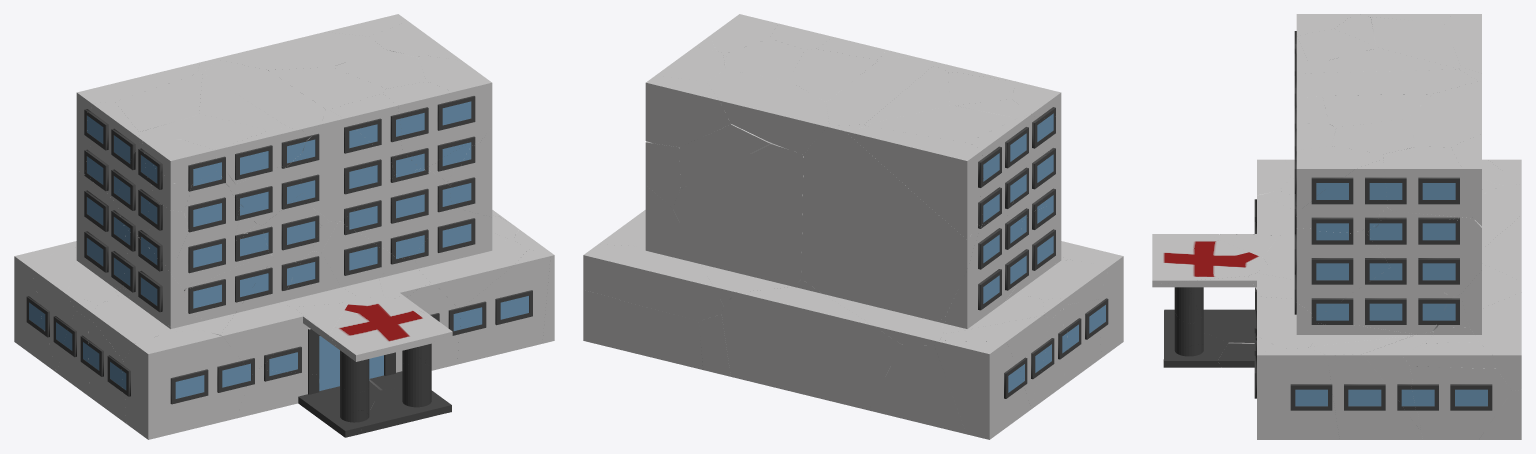
File: hospital_CRUSH.fbx
3 views of the same model, side by side, from view 1: azimuth 30°, elevation 25°; view 2: azimuth 150°, elevation 25°; view 3: azimuth 270°, elevation 25° (orthographic).
Visible parts, largest first — view 1: Cube.020_cell.043, Cube.020_cell.020, Cube.020_cell.071, Cube.020_cell.041, Cube.020_cell.057, Cube.020_cell.015, Cube.020_cell, Cube.020_cell.005, Cube.020_cell.040, Cube.020_cell.042, Cube.020_cell.026, Cube.020_cell.073 (+42 smaller); view 2: Cube.020_cell.008, Cube.020_cell.034, Cube.020_cell.045, Cube.020_cell.031, Cube.020_cell.004, Cube.020_cell.017, Cube.020_cell, Cube.020_cell.058, Cube.020_cell.055, Cube.020_cell.057, Cube.020_cell.076, Cube.020_cell.069 (+24 smaller); view 3: Cube.020_cell.030, Cube.020_cell.037, Cube.020_cell.052, Cube.020_cell.075, Cube.020_cell.046, Cube.020_cell.039, Cube.020_cell.025, Cube.020_cell.005, Cube.020_cell.084, Cube.020_cell.031, Cube.020_cell.073, Cube.020_cell.058 (+39 smaller).
Part boxes in pixels (x1=…): Cube.020_cell.043: x1=121, y1=330, x2=252, y2=439; Cube.020_cell.020: x1=457, y1=249, x2=550, y2=364; Cube.020_cell.071: x1=299, y1=109, x2=395, y2=221; Cube.020_cell.041: x1=414, y1=206, x2=527, y2=308; Cube.020_cell.057: x1=91, y1=229, x2=185, y2=360; Cube.020_cell.015: x1=341, y1=168, x2=451, y2=259; Cube.020_cell: x1=67, y1=173, x2=127, y2=302; Cube.020_cell.005: x1=329, y1=297, x2=450, y2=361; Cube.020_cell.040: x1=220, y1=257, x2=320, y2=373; Cube.020_cell.042: x1=382, y1=81, x2=467, y2=168; Cube.020_cell.026: x1=237, y1=369, x2=379, y2=437; Cube.020_cell.073: x1=203, y1=59, x2=325, y2=135; Cube.020_cell.008: x1=801, y1=124, x2=981, y2=345; Cube.020_cell.034: x1=721, y1=279, x2=901, y2=410; Cube.020_cell.045: x1=672, y1=143, x2=803, y2=305; Cube.020_cell.031: x1=583, y1=185, x2=723, y2=321; Cube.020_cell.004: x1=844, y1=126, x2=984, y2=240; Cube.020_cell.017: x1=934, y1=340, x2=1031, y2=439; Cube.020_cell: x1=942, y1=214, x2=1044, y2=334; Cube.020_cell.058: x1=706, y1=70, x2=829, y2=154; Cube.020_cell.055: x1=583, y1=290, x2=703, y2=369; Cube.020_cell.057: x1=1017, y1=205, x2=1108, y2=304; Cube.020_cell.076: x1=868, y1=345, x2=966, y2=433; Cube.020_cell.069: x1=645, y1=75, x2=730, y2=147; Cube.020_cell.030: x1=1257, y1=348, x2=1339, y2=439; Cube.020_cell.037: x1=1368, y1=211, x2=1481, y2=296; Cube.020_cell.052: x1=1410, y1=327, x2=1511, y2=439; Cube.020_cell.075: x1=1294, y1=216, x2=1390, y2=318; Cube.020_cell.046: x1=1315, y1=267, x2=1452, y2=334; Cube.020_cell.039: x1=1326, y1=354, x2=1423, y2=439; Cube.020_cell.025: x1=1383, y1=146, x2=1472, y2=218; Cube.020_cell.005: x1=1152, y1=234, x2=1267, y2=284; Cube.020_cell.084: x1=1296, y1=159, x2=1387, y2=233; Cube.020_cell.031: x1=1460, y1=270, x2=1521, y2=390; Cube.020_cell.073: x1=1296, y1=69, x2=1477, y2=95; Cube.020_cell.058: x1=1407, y1=81, x2=1481, y2=147.
Bounding box in the file's own units: 2509 × 1480 × 1976.
